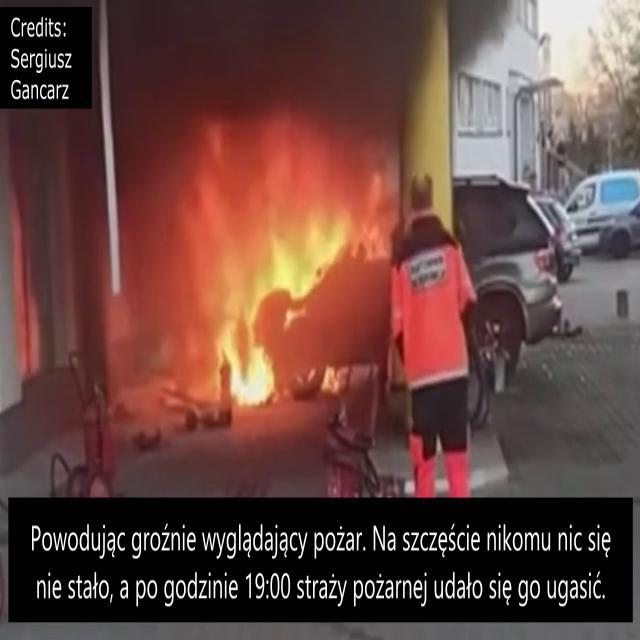Fire: (126, 126, 392, 421)
